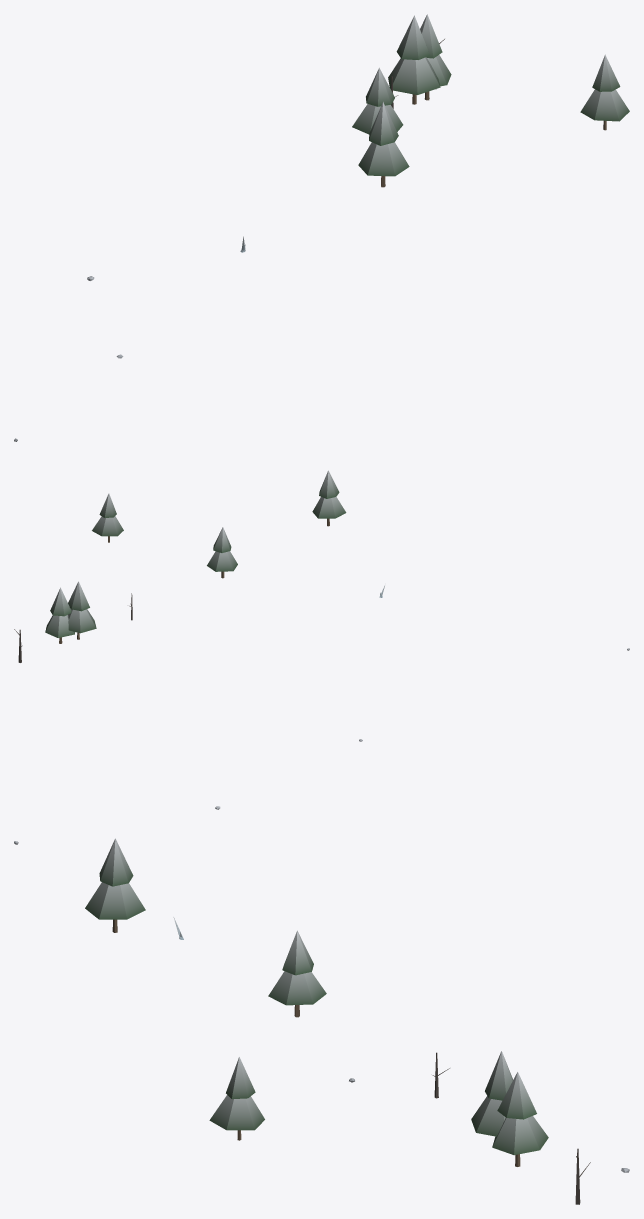
Rendered from frost_land_scatter_c21_08_lod1.glb.
3 renders of one model, top to bottom at view 1: azimuth 30°, elevation 25°; view 2: azimuth 150°, elevation 25°; view 3: azimuth 270°, elevation 25°, orthographic. The views are drawn at different scales.
Visible parts, largest first — view 1: frost_land_scatter_c21_08_lod1; view 2: frost_land_scatter_c21_08_lod1; view 3: frost_land_scatter_c21_08_lod1.
Boxes of the visible parts, x1=… form: frost_land_scatter_c21_08_lod1: x1=14, y1=14, x2=629, y2=441; frost_land_scatter_c21_08_lod1: x1=14, y1=470, x2=629, y2=809; frost_land_scatter_c21_08_lod1: x1=14, y1=838, x2=629, y2=1204.
Size of the model in its own units: 100 by 44.72 by 67.85.
